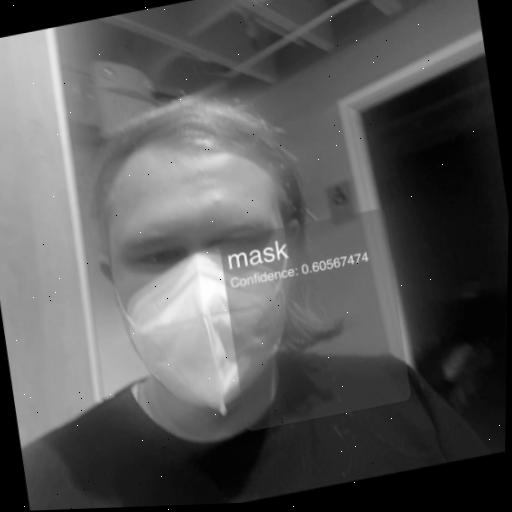mask: (65, 85, 380, 487)
